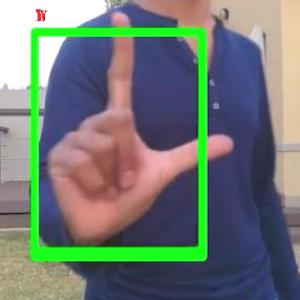land_hand: (30, 2, 241, 254)
